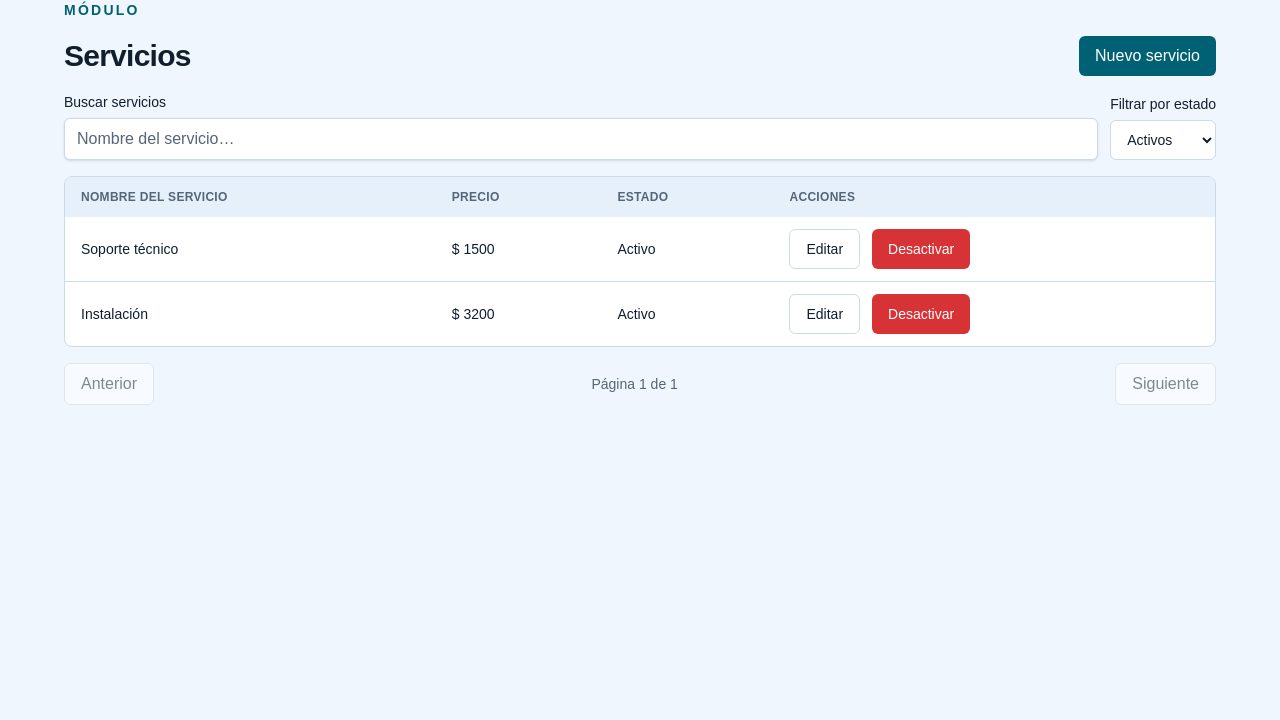
it: ServiciosPage › creates a service, shows a toast, and refreshes the list
Expected: the text "Soporte técnico" is shown, [65,217,436,282]
Click the button "Nuevo servicio" at (1148, 56), box [1079,36,1216,76]
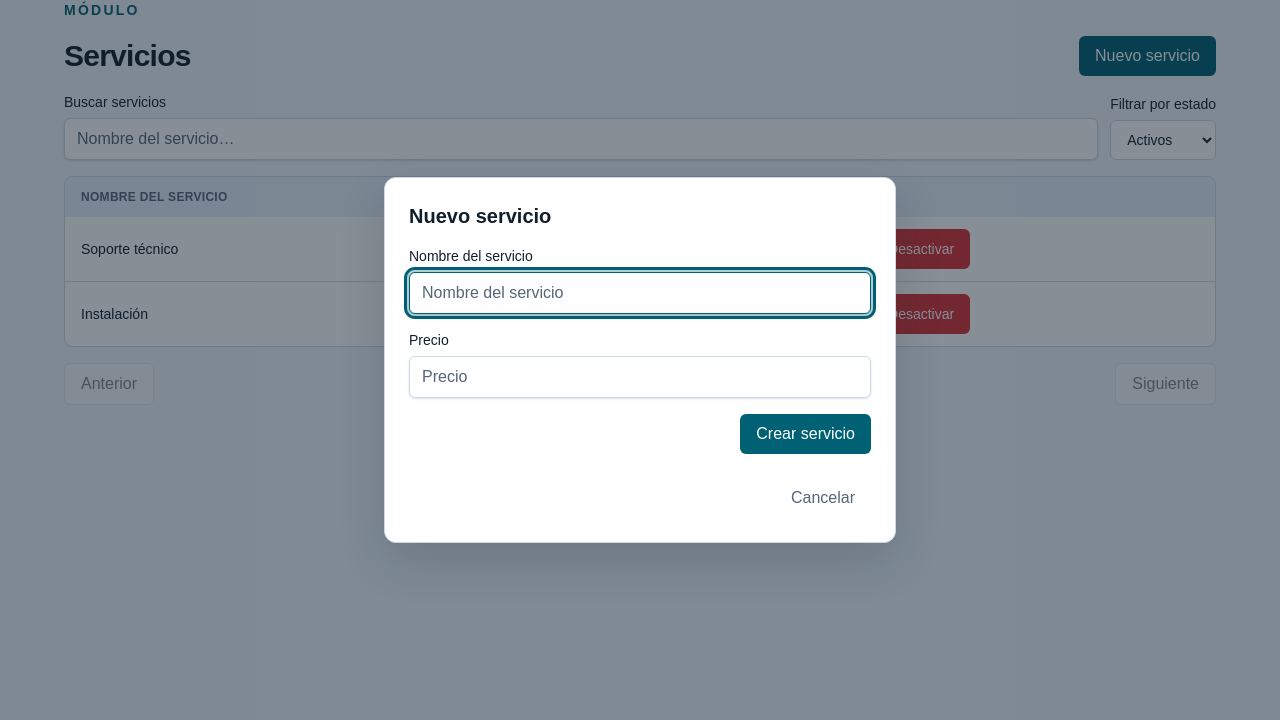
Type "Mantenimiento" into the field labelled "Nombre del servicio" at (640, 293), box [409,272,871,314]
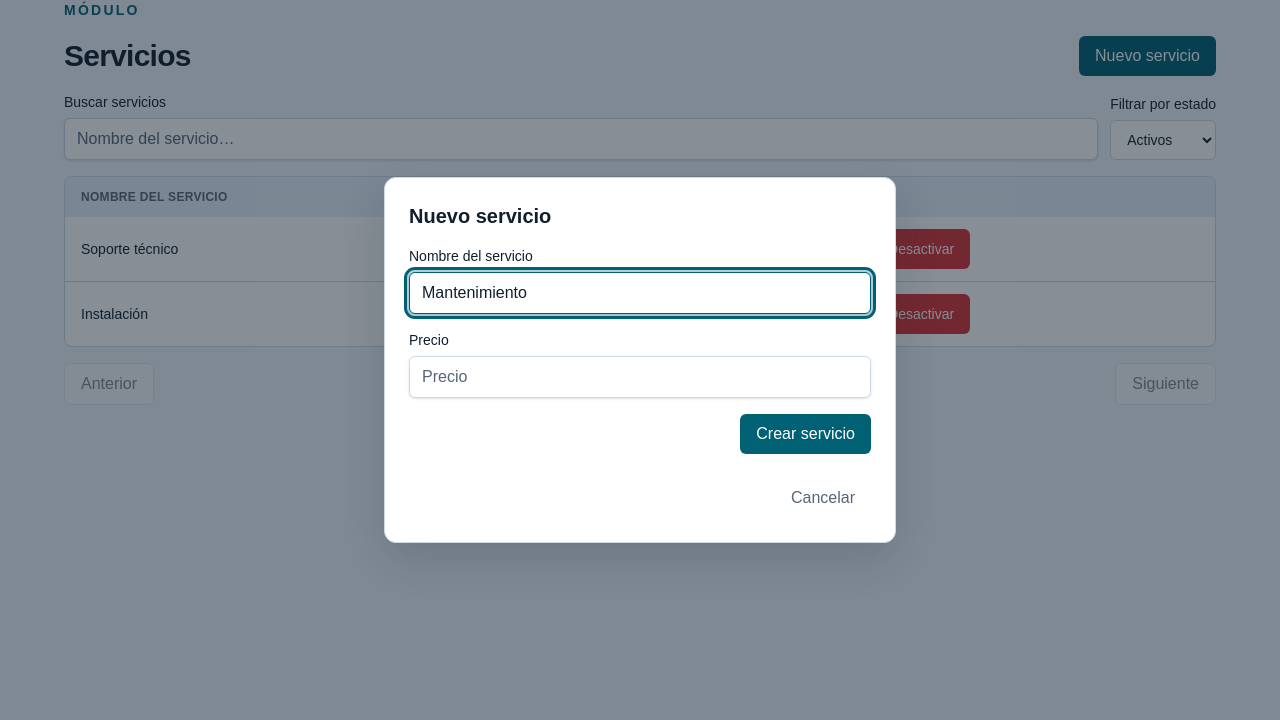
Type "2100" into the number field labelled "Precio" at (640, 377), box [409,356,871,398]
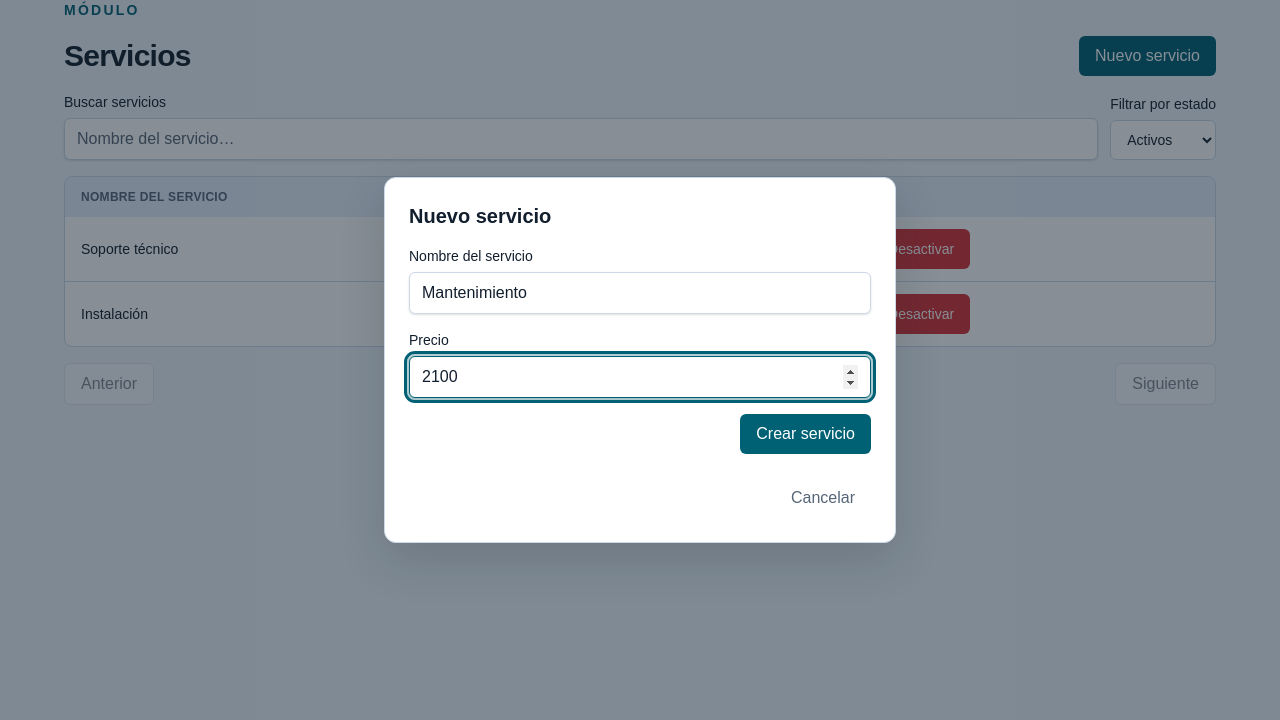
Click the button "Crear servicio" at (806, 434), box [740,414,871,454]
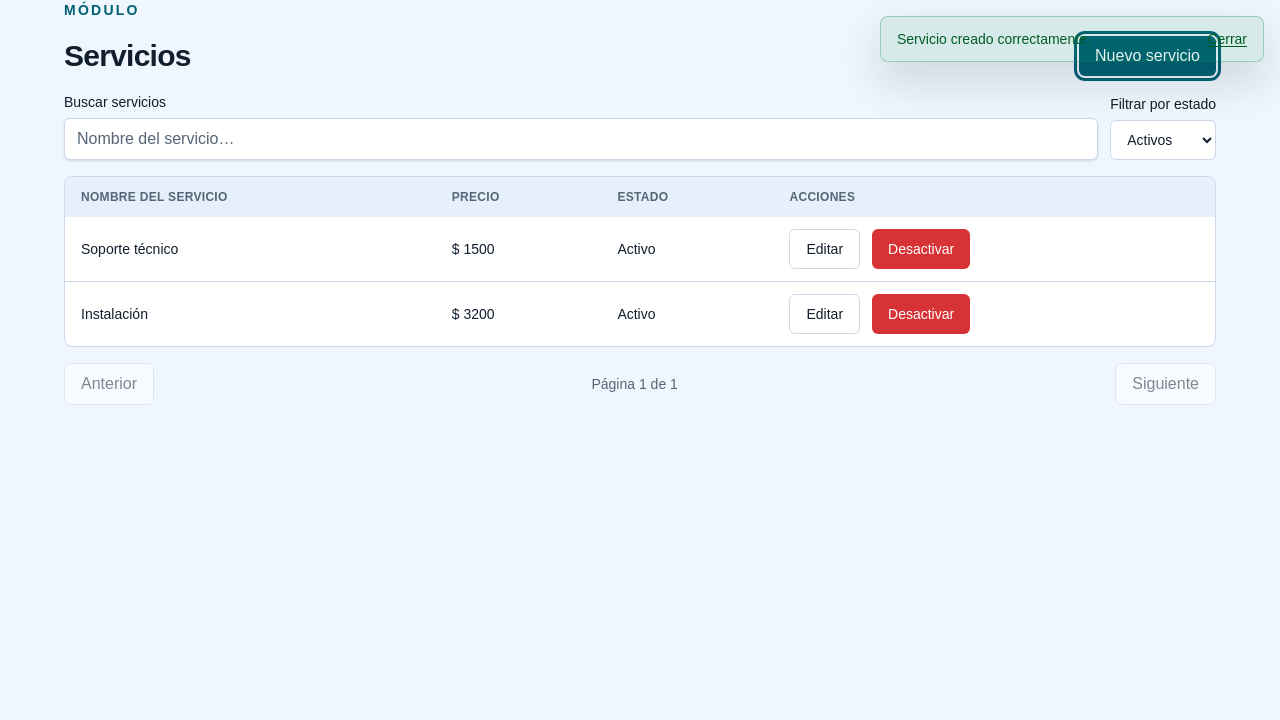
Now the message shows "Servicio creado correctamente.", box [897,31,1091,47]
